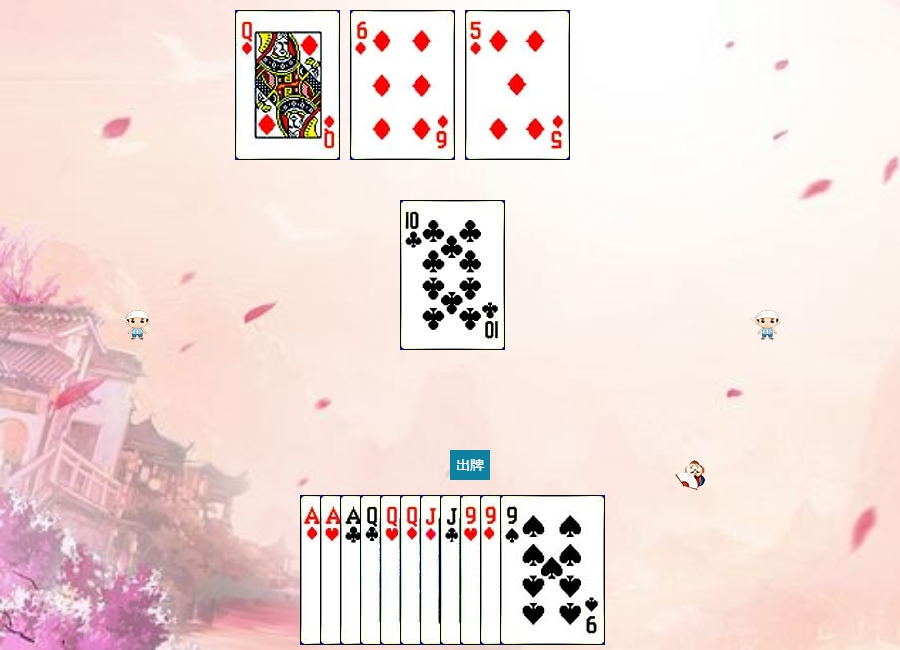10~2: (400, 200, 505, 350)
11~1: (420, 495, 525, 645)
11~2: (440, 495, 545, 645)
12~1: (235, 10, 340, 160), (400, 495, 505, 645)
12~2: (360, 495, 465, 645)
12~3: (380, 495, 485, 645)
14~1: (300, 495, 405, 645)
14~2: (340, 495, 445, 645)
14~3: (320, 495, 425, 645)
5~1: (465, 10, 570, 160)
6~1: (350, 10, 455, 160)
9~1: (480, 495, 585, 645)
9~3: (460, 495, 565, 645)
9~4: (500, 495, 605, 645)
